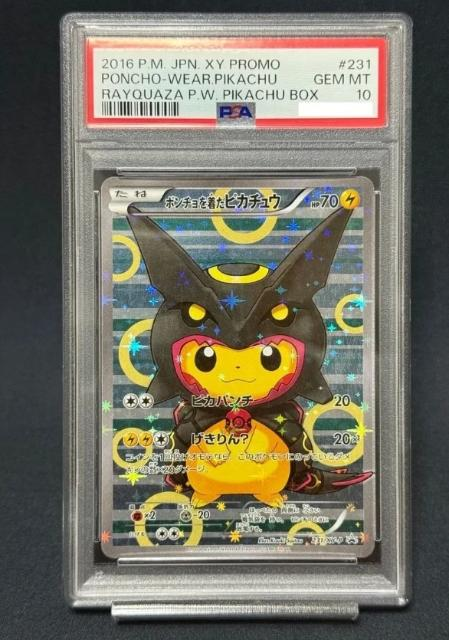Card: (95, 172, 381, 564)
Name: (161, 188, 286, 213)
